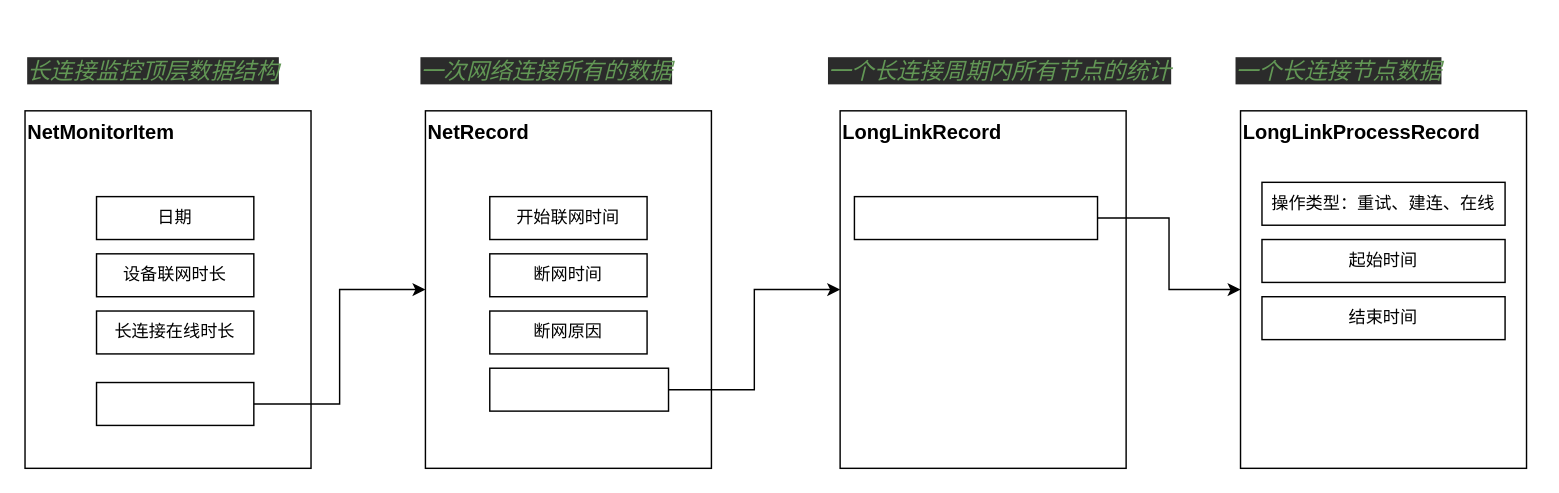
The diagram is 1559 pixels wide and 493 high, and some of its shapes have lost their labels. Each missing label, with the centre of its shape:
"List<LongLinkProcessRecord>" goes at pixel 975 217.
"List<LongLinkRecord>" goes at pixel 578 389.
"List<NetRecord>" goes at pixel 174 403.
